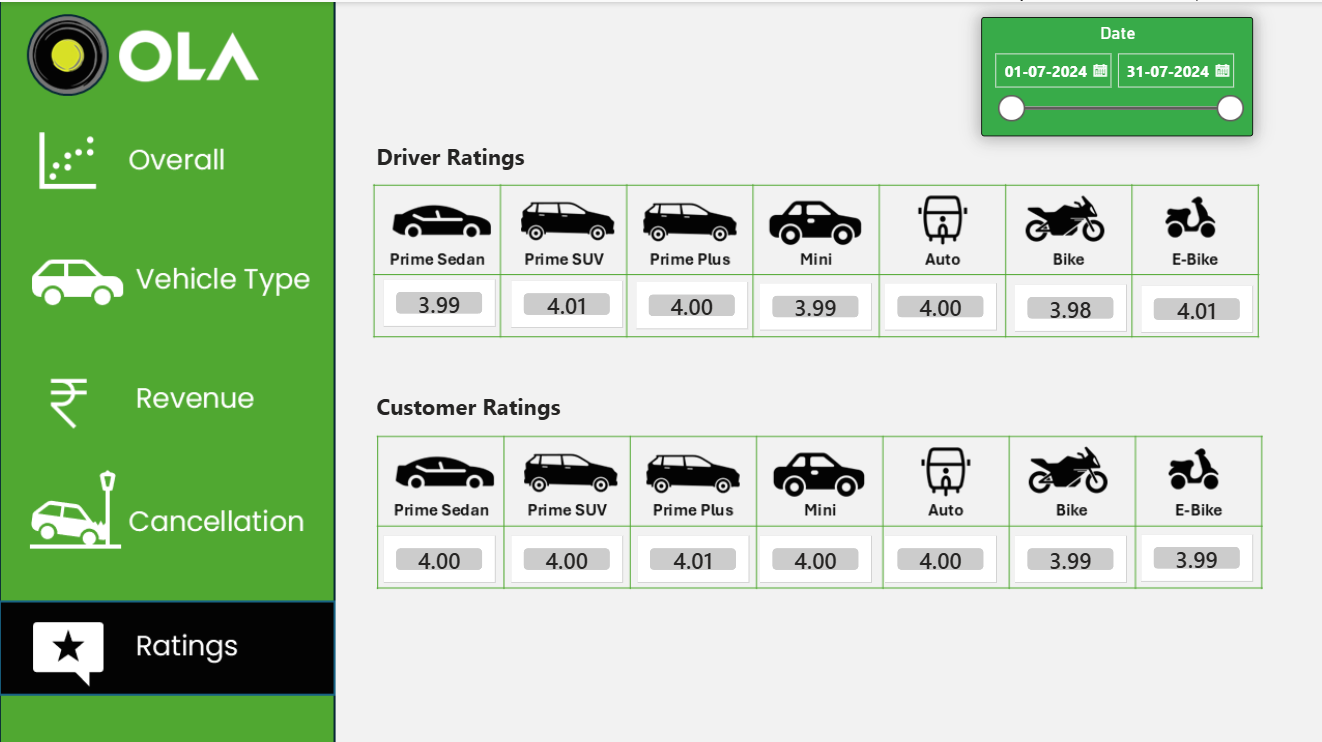

What the dashboard file says about the page in this screenshot:
{"tool":"powerbi","page":{"name":"Ratings","canvas":[1280,720],"ordinal":4},"visuals":[{"type":"actionButton","box":[0,222,323.3,90.5],"z":0},{"type":"actionButton","box":[0,335.4,323.3,90.5],"z":1000},{"type":"actionButton","box":[0,446.4,323.3,90.5],"z":2000},{"type":"actionButton","box":[0,102.5,323.3,90.5],"z":3000},{"type":"cardVisual","fields":{"Data":["Avg(Bookings.Driver_Ratings)"]},"box":[370.1,267.5,107.8,45.5],"z":4000},{"type":"cardVisual","fields":{"Data":["Avg(Bookings.Driver_Ratings)"]},"box":[493.5,268.8,107.8,45.5],"z":5000},{"type":"cardVisual","fields":{"Data":["Avg(Bookings.Driver_Ratings)"]},"box":[614.3,270.1,107.8,45.5],"z":6000},{"type":"cardVisual","fields":{"Data":["Avg(Bookings.Driver_Ratings)"]},"box":[733.8,271.4,107.8,45.5],"z":7000},{"type":"cardVisual","fields":{"Data":["Avg(Bookings.Driver_Ratings)"]},"box":[854.5,271.4,107.8,45.5],"z":8000},{"type":"cardVisual","fields":{"Data":["Avg(Bookings.Driver_Ratings)"]},"box":[979.2,272.7,107.8,45.5],"z":9000},{"type":"cardVisual","fields":{"Data":["Avg(Bookings.Driver_Ratings)"]},"box":[1101.3,274,107.8,45.5],"z":10000},{"type":"cardVisual","fields":{"Data":["Avg(Bookings.Customer_Rating)"]},"box":[370.1,515.6,107.8,45.5],"z":11000},{"type":"cardVisual","fields":{"Data":["Avg(Bookings.Customer_Rating)"]},"box":[493.5,515.6,107.8,45.5],"z":12000},{"type":"cardVisual","fields":{"Data":["Avg(Bookings.Customer_Rating)"]},"box":[615.6,515.6,107.8,45.5],"z":13000},{"type":"cardVisual","fields":{"Data":["Avg(Bookings.Customer_Rating)"]},"box":[733.8,515.6,107.8,45.5],"z":14000},{"type":"cardVisual","fields":{"Data":["Avg(Bookings.Customer_Rating)"]},"box":[854.5,515.6,107.8,45.5],"z":15000},{"type":"cardVisual","fields":{"Data":["Avg(Bookings.Customer_Rating)"]},"box":[979.2,515.6,107.8,45.5],"z":16000},{"type":"cardVisual","fields":{"Data":["Avg(Bookings.Customer_Rating)"]},"box":[1101.3,514.3,107.8,45.5],"z":17000},{"type":"textbox","box":[358.4,129.9,189.6,42.9],"z":18000},{"type":"textbox","box":[358.4,371.4,215.6,40.3],"z":19000},{"type":"slicer","title":"Date","fields":{"Values":["Bookings.Date.1"]},"box":[946.8,14.3,262.3,115.6],"z":20000}]}

Visuals, with their boxes in screenshot pixels (x1, y1, x2, y2), scaled from the page's 1280x720 canvas onto the 1322x742 screenshot:
actionButton: crop(0, 229, 334, 322)
actionButton: crop(0, 346, 334, 439)
actionButton: crop(0, 460, 334, 553)
actionButton: crop(0, 106, 334, 199)
cardVisual - Avg(Bookings.Driver_Ratings): crop(382, 276, 494, 323)
cardVisual - Avg(Bookings.Driver_Ratings): crop(510, 277, 621, 324)
cardVisual - Avg(Bookings.Driver_Ratings): crop(634, 278, 746, 325)
cardVisual - Avg(Bookings.Driver_Ratings): crop(758, 280, 869, 327)
cardVisual - Avg(Bookings.Driver_Ratings): crop(883, 280, 994, 327)
cardVisual - Avg(Bookings.Driver_Ratings): crop(1011, 281, 1123, 328)
cardVisual - Avg(Bookings.Driver_Ratings): crop(1137, 282, 1249, 329)
cardVisual - Avg(Bookings.Customer_Rating): crop(382, 531, 494, 578)
cardVisual - Avg(Bookings.Customer_Rating): crop(510, 531, 621, 578)
cardVisual - Avg(Bookings.Customer_Rating): crop(636, 531, 747, 578)
cardVisual - Avg(Bookings.Customer_Rating): crop(758, 531, 869, 578)
cardVisual - Avg(Bookings.Customer_Rating): crop(883, 531, 994, 578)
cardVisual - Avg(Bookings.Customer_Rating): crop(1011, 531, 1123, 578)
cardVisual - Avg(Bookings.Customer_Rating): crop(1137, 530, 1249, 577)
textbox: crop(370, 134, 566, 178)
textbox: crop(370, 383, 593, 424)
"Date" slicer: crop(978, 15, 1249, 134)
